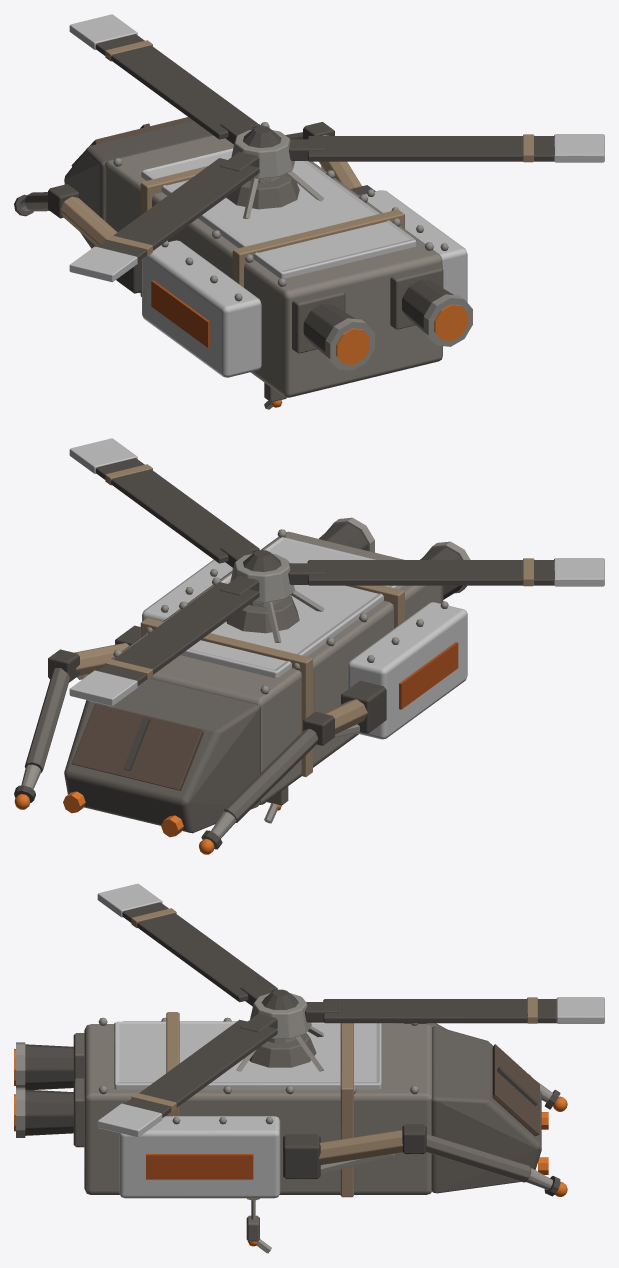
The model's file is crucible_builder_air.glb.
3 renders of one model, top to bottom at view 1: azimuth 30°, elevation 25°; view 2: azimuth 150°, elevation 25°; view 3: azimuth 270°, elevation 25°, orthographic. The views are drawn at different scales.
Visible parts, largest first — view 1: Body, Rotor_Y; view 2: Body, Rotor_Y; view 3: Body, Rotor_Y.
Part boxes in pixels (box(x1,y1,x2,y2)): Body: box(14, 117, 472, 409); Rotor_Y: box(69, 14, 604, 282); Body: box(14, 517, 470, 854); Rotor_Y: box(69, 438, 604, 706); Body: box(14, 1012, 567, 1253); Rotor_Y: box(97, 883, 604, 1137).
Bounding box in the file's own units: 2.18 × 1.07 × 2.2.
